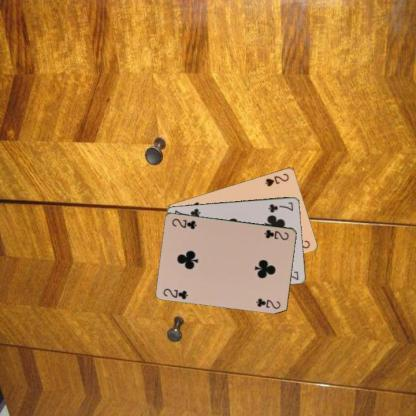2c: (161, 286, 190, 300), (262, 228, 290, 242)
2s: (262, 171, 290, 188)
7c: (266, 199, 295, 214)
